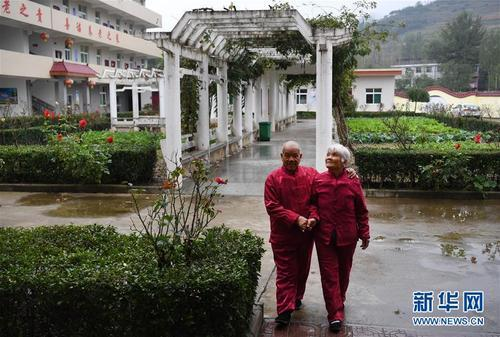up: (313, 138, 368, 329), (263, 140, 315, 326)
